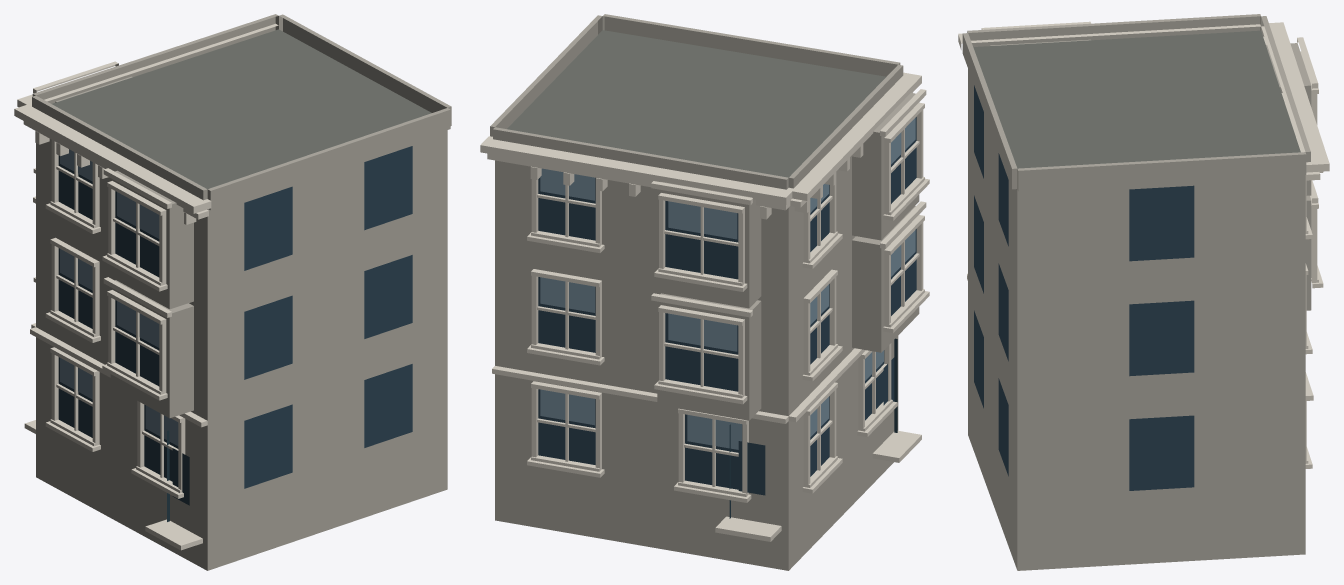
3 views of the same model, side by side, from view 1: azimuth 30°, elevation 25°; view 2: azimuth 150°, elevation 25°; view 3: azimuth 270°, elevation 25° (orthographic). The views are drawn at different scales.
Visible parts, largest first — view 1: Footprint 0 / surface 2, Footprint 0 / surface 1, Inset glazing, Cornices and window frames, Facade bay volumes, Sky reflection panels; view 2: Footprint 0 / surface 2, Cornices and window frames, Footprint 0 / surface 1, Facade bay volumes, Inset glazing, Sky reflection panels; view 3: Footprint 0 / surface 2, Footprint 0 / surface 1, Inset glazing, Facade bay volumes, Cornices and window frames.
Part boxes in pixels (left/top/right/bottom): Footprint 0 / surface 2: left=36, top=130, right=447, bottom=570; Footprint 0 / surface 1: left=52, top=29, right=431, bottom=189; Inset glazing: left=58, top=146, right=412, bottom=505; Cornices and window frames: left=14, top=23, right=278, bottom=550; Facade bay volumes: left=32, top=14, right=451, bottom=418; Sky reflection panels: left=60, top=149, right=178, bottom=445; Footprint 0 / surface 2: left=495, top=156, right=898, bottom=570; Cornices and window frames: left=480, top=72, right=929, bottom=541; Footprint 0 / surface 1: left=507, top=30, right=886, bottom=177; Facade bay volumes: left=490, top=14, right=919, bottom=420; Inset glazing: left=538, top=117, right=916, bottom=495; Sky reflection panels: left=540, top=118, right=915, bottom=449; Footprint 0 / surface 2: left=968, top=69, right=1305, bottom=570; Footprint 0 / surface 1: left=973, top=30, right=1300, bottom=168; Inset glazing: left=974, top=85, right=1194, bottom=490; Facade bay volumes: left=962, top=14, right=1311, bottom=310; Cornices and window frames: left=958, top=21, right=1329, bottom=468.
Size of the model in its own units: 8.62 by 9.82 by 8.22.
